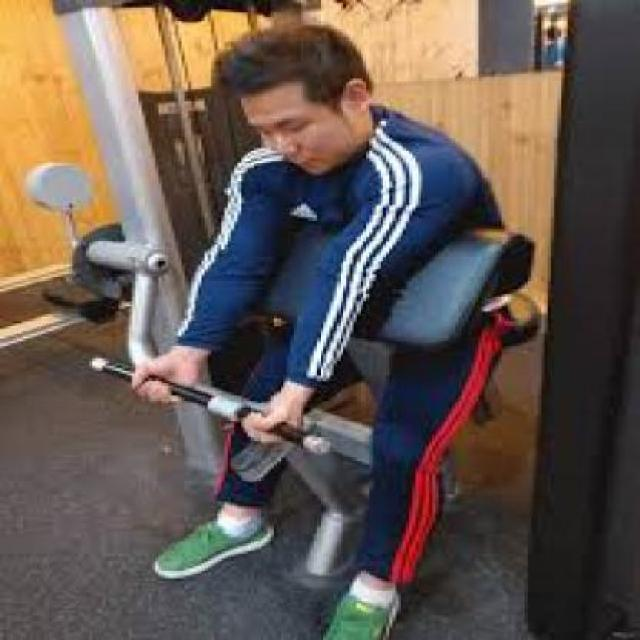arm curl machine: (45, 228, 543, 592)
